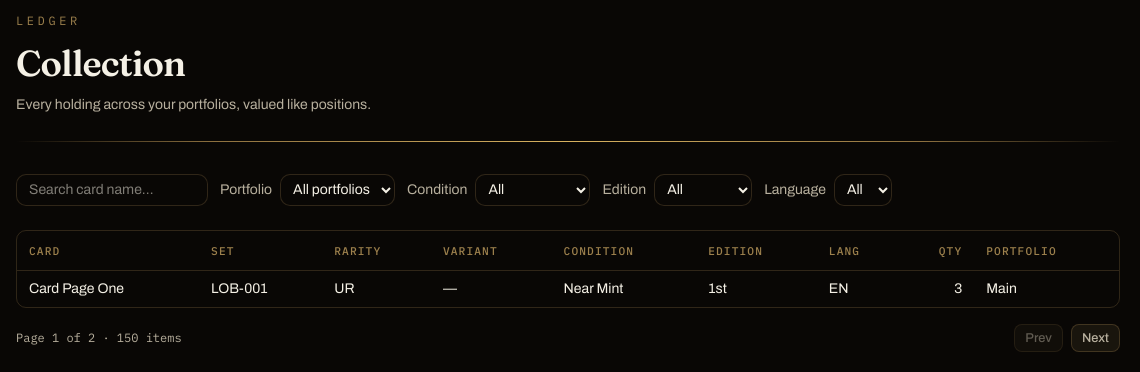
Test: CollectionPage › ignores a second Next click while the page is still loading
Expected: the text "Card Page One" is shown, [17,271,199,307]
Click the button "Next": (1095, 338) [1071,324,1120,352]
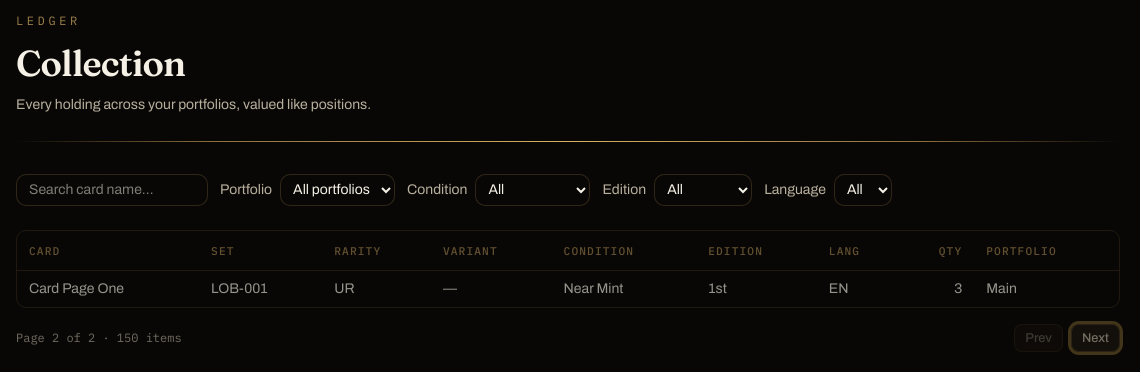
Click the button "Next": (1095, 338) [1071,324,1120,352]
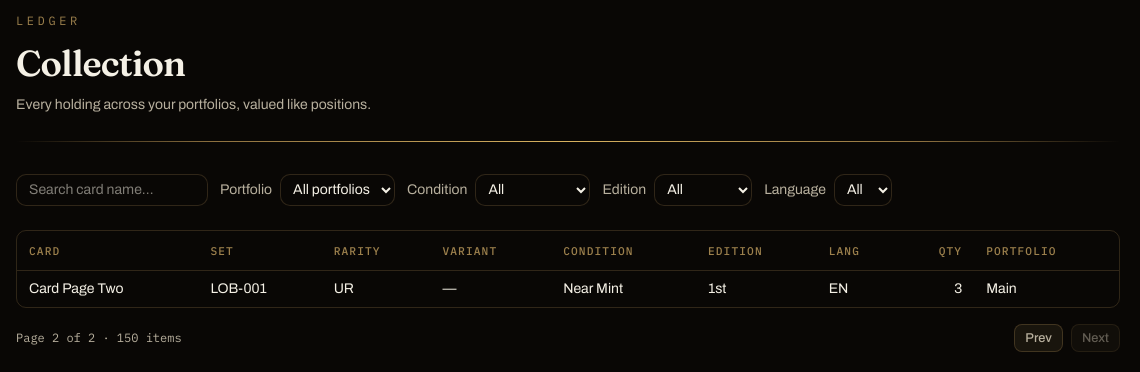
Now the text "Page 2 of 2 · 150 items" is shown, box [16,330,182,346]
Now the text "Card Page Two" is shown, box [17,271,198,307]
